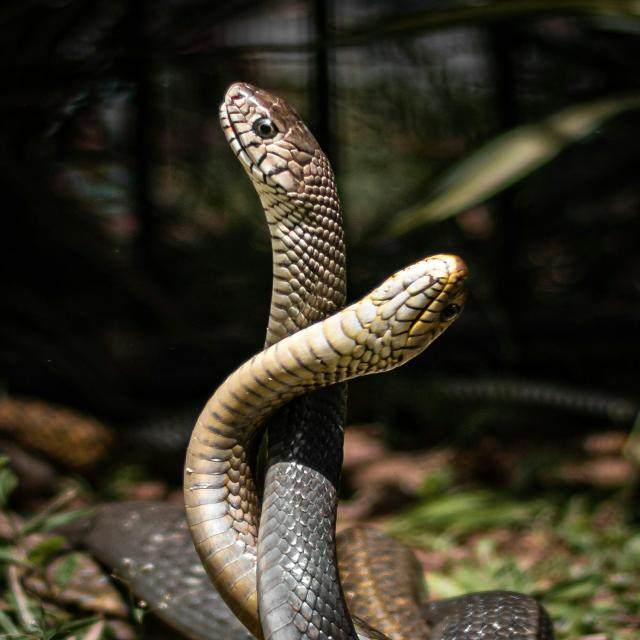Snake: (0, 63, 625, 640)
